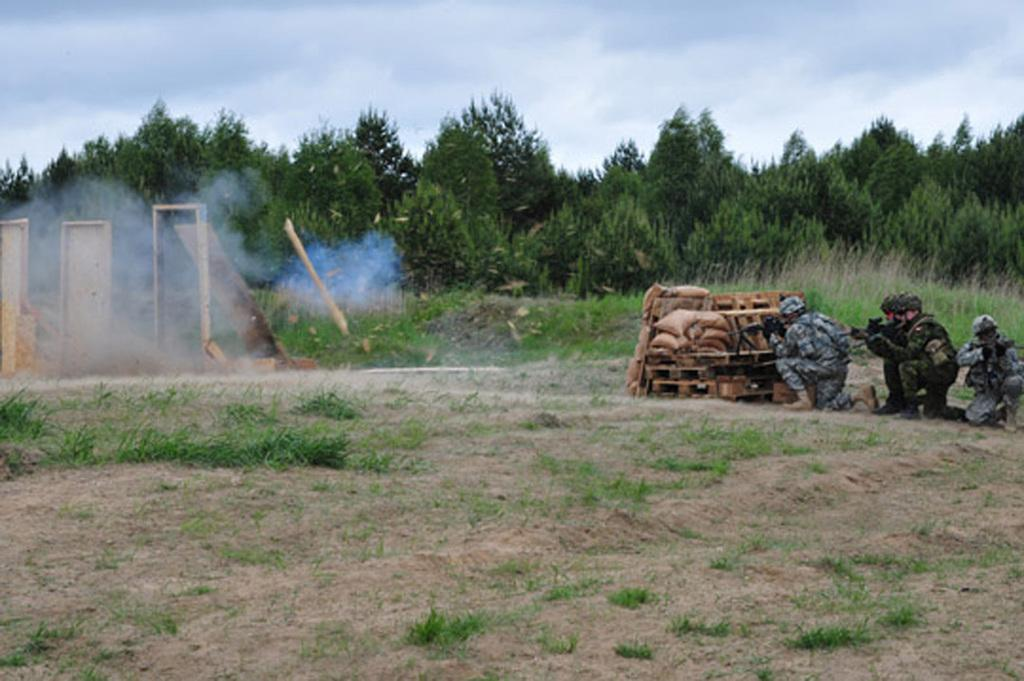non-violence: (848, 295, 967, 423), (768, 296, 880, 411), (956, 315, 1024, 431), (868, 297, 902, 406)
weapon: (720, 310, 797, 359), (834, 309, 908, 350)
